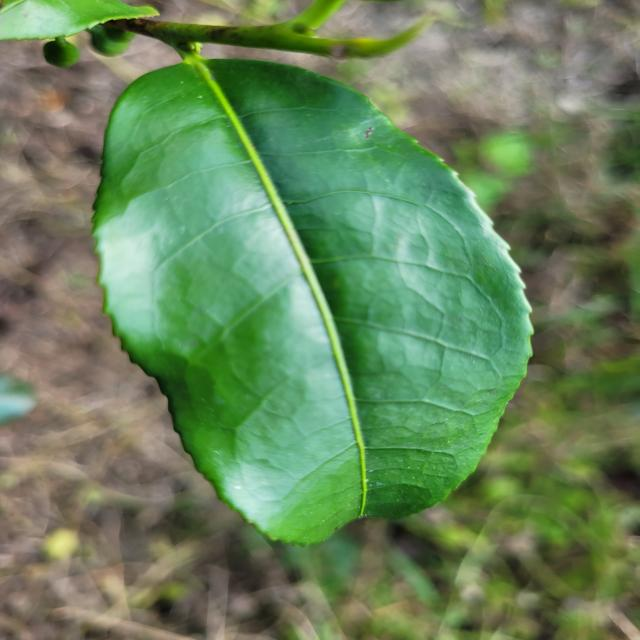Category D(7+ days, Not for Tea): (81, 34, 541, 551)
